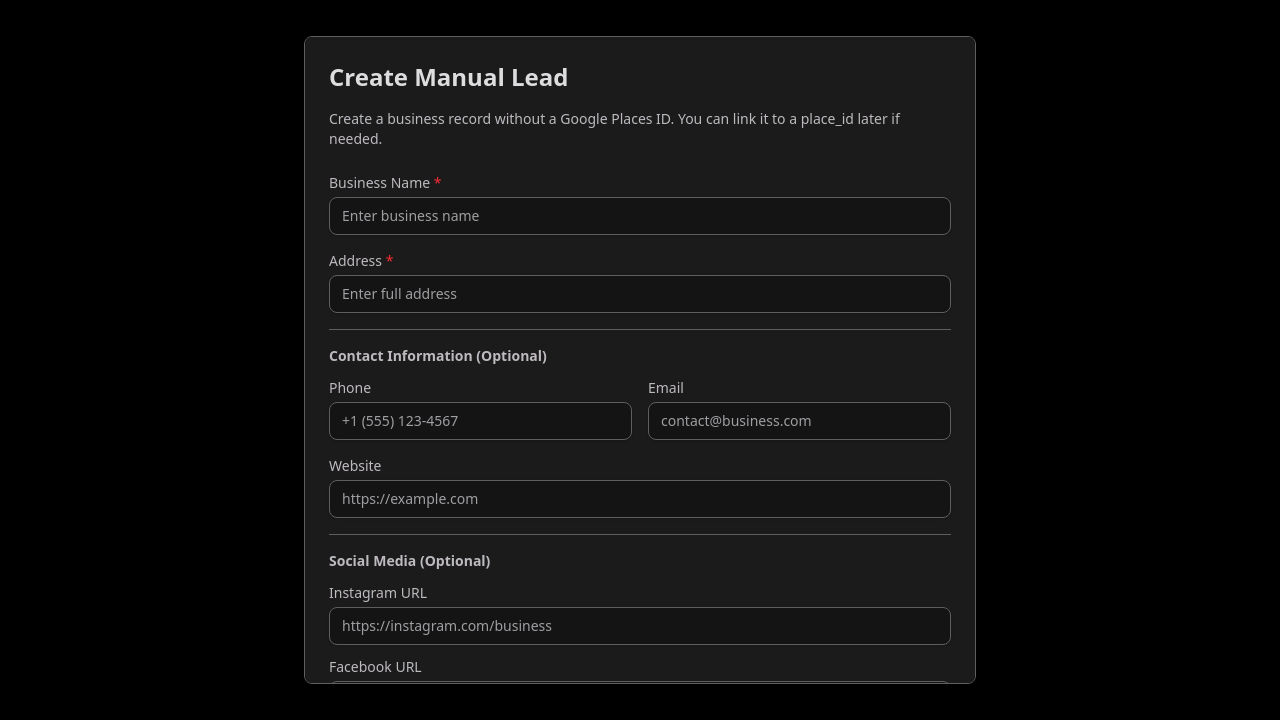
Test: ManualLeadForm › should check for duplicates before creating
In the field labelled "Business Name *": (640, 216) [329,197,951,235], type "Existing Business"
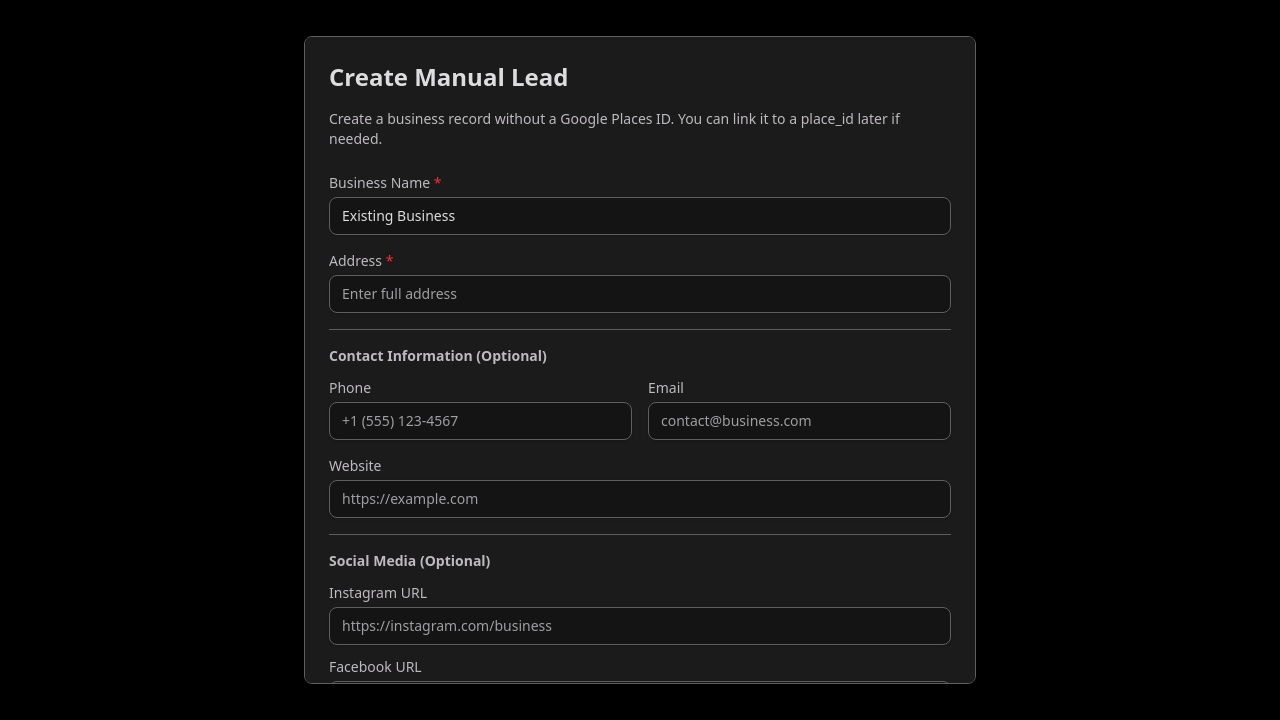
In the field labelled "Address *": (640, 294) [329,275,951,313], type "123 Main St"
(page scrolled)
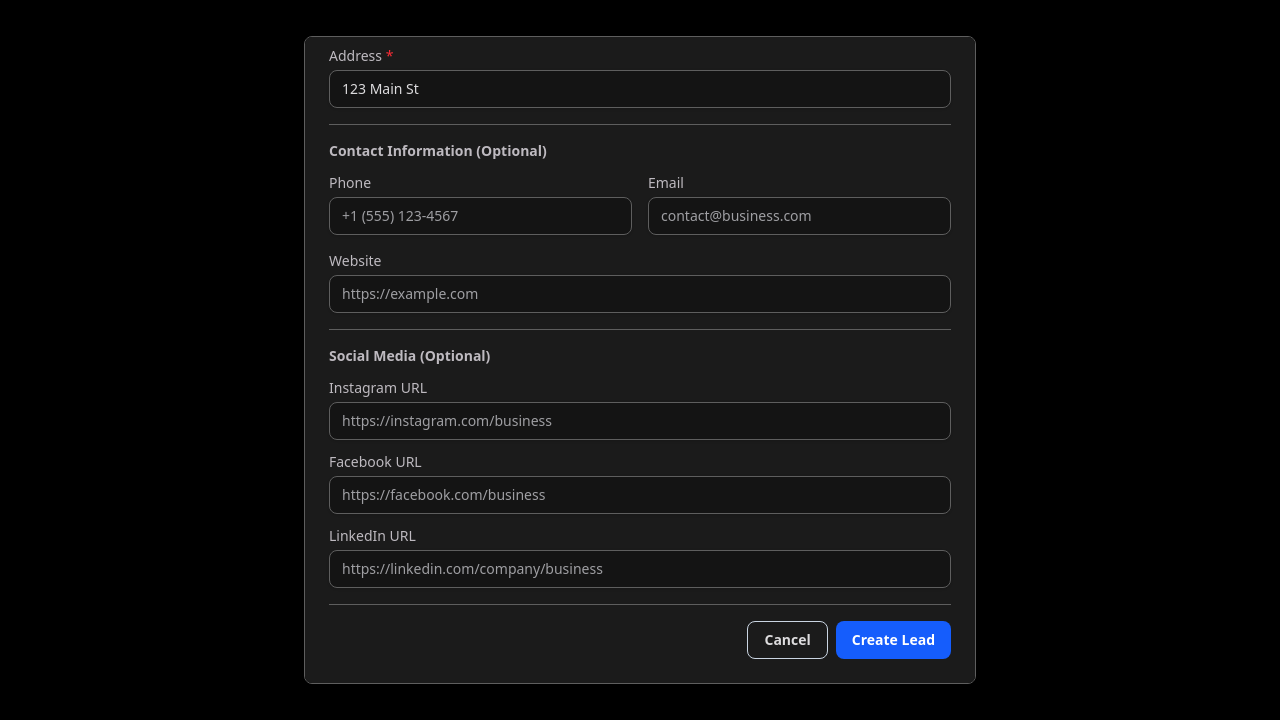
Click the button "Create Lead": (893, 640) [836,621,951,659]
(page scrolled)
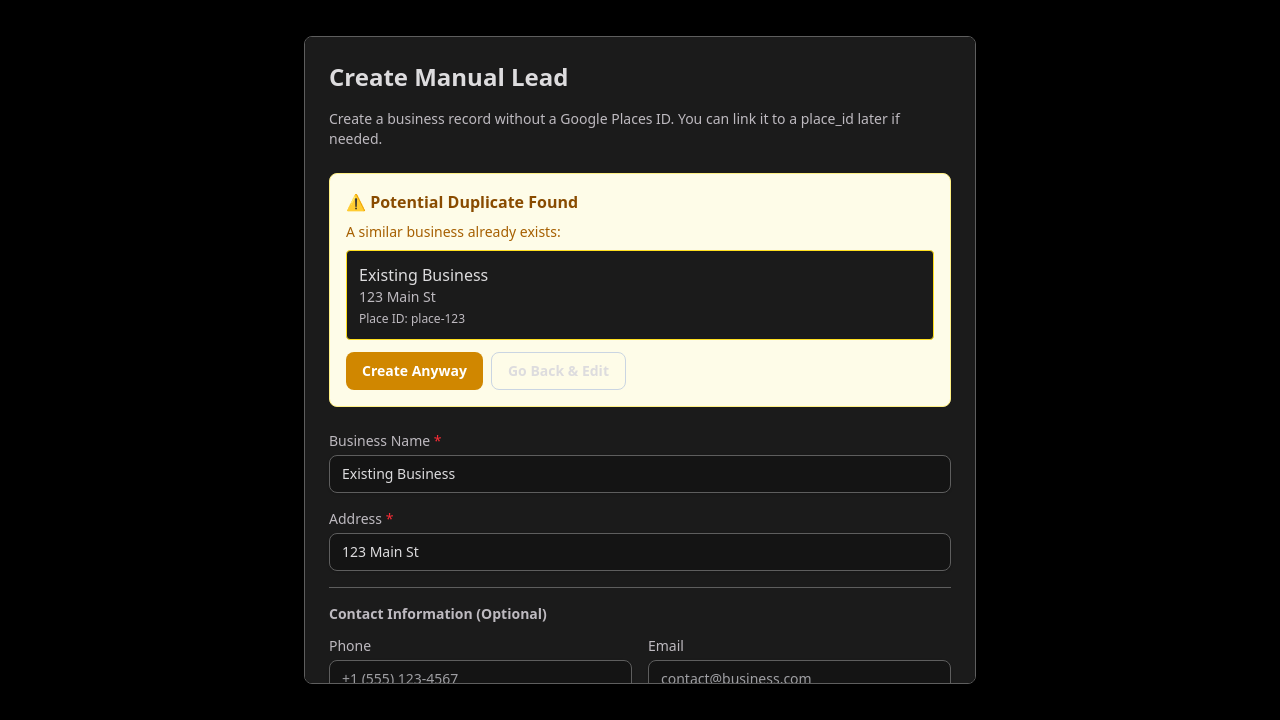
Check: the heading "⚠️ Potential Duplicate Found" is shown, box [346,191,578,213]
Check: the text "Existing Business" is shown, box [359,264,488,286]
